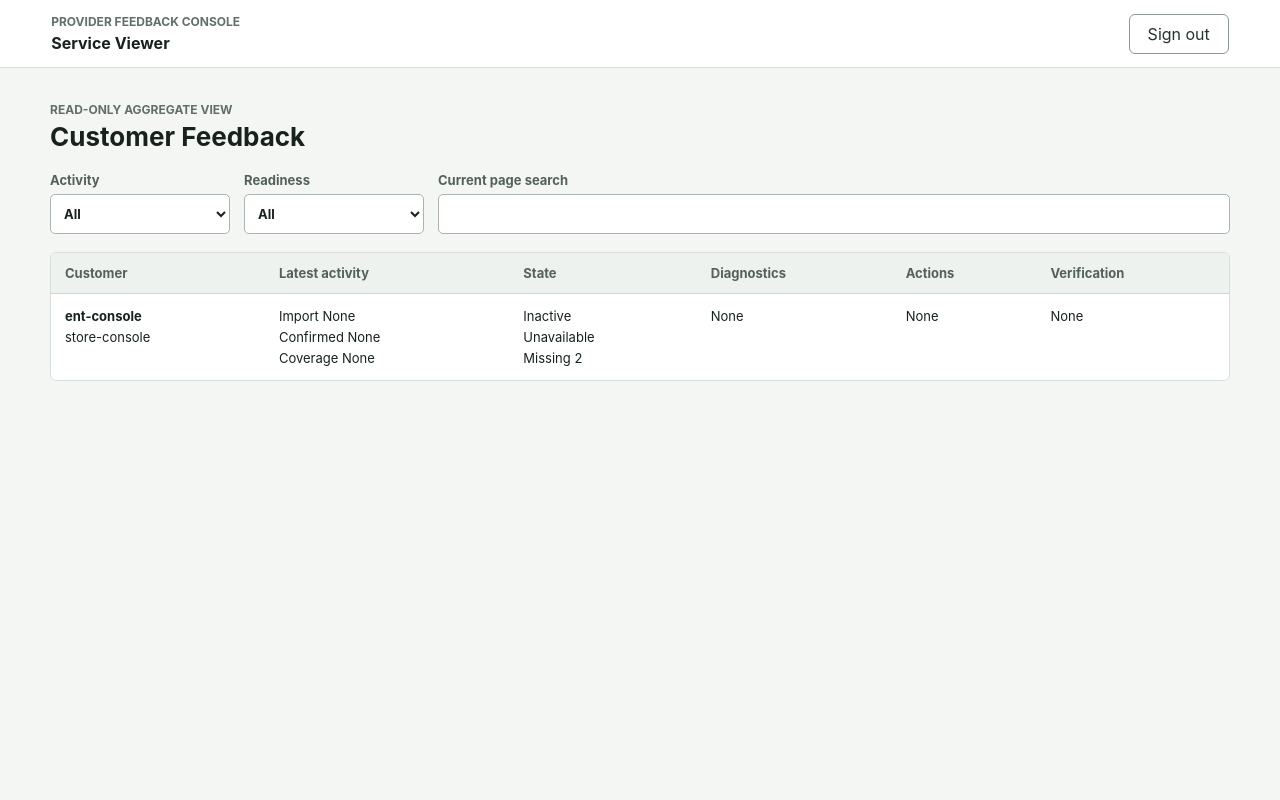
Test: provider console application shell › clears the authenticated UI before a stalled browser logout completes
This screenshot has width=1280, height=800.
Expected: the text "ent-console" is shown, [65,308,142,324]
Click the button "Sign out": (1179, 34) [1129,14,1229,54]
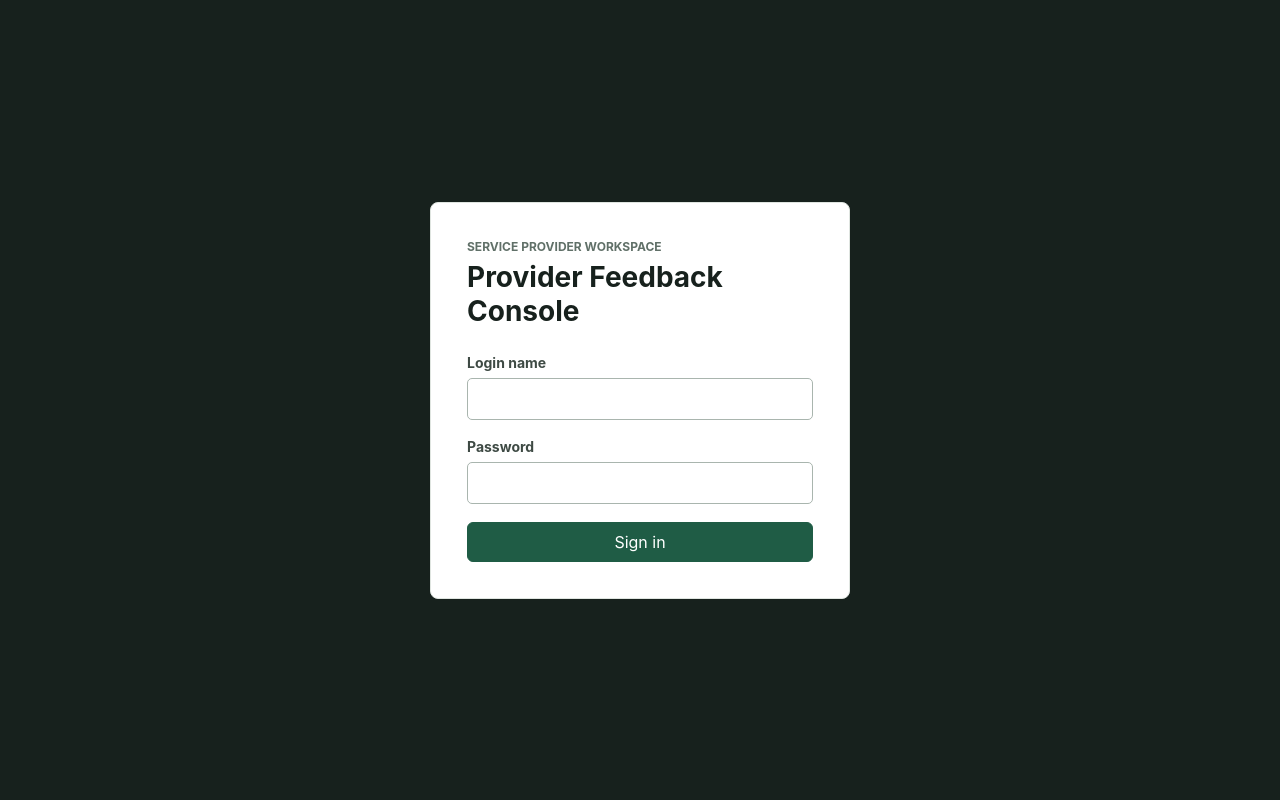
Result: the button "Sign in" is shown at [467,522,813,562]
Result: the text "ent-console" is gone
Result: the heading "Customer Feedback" is gone
